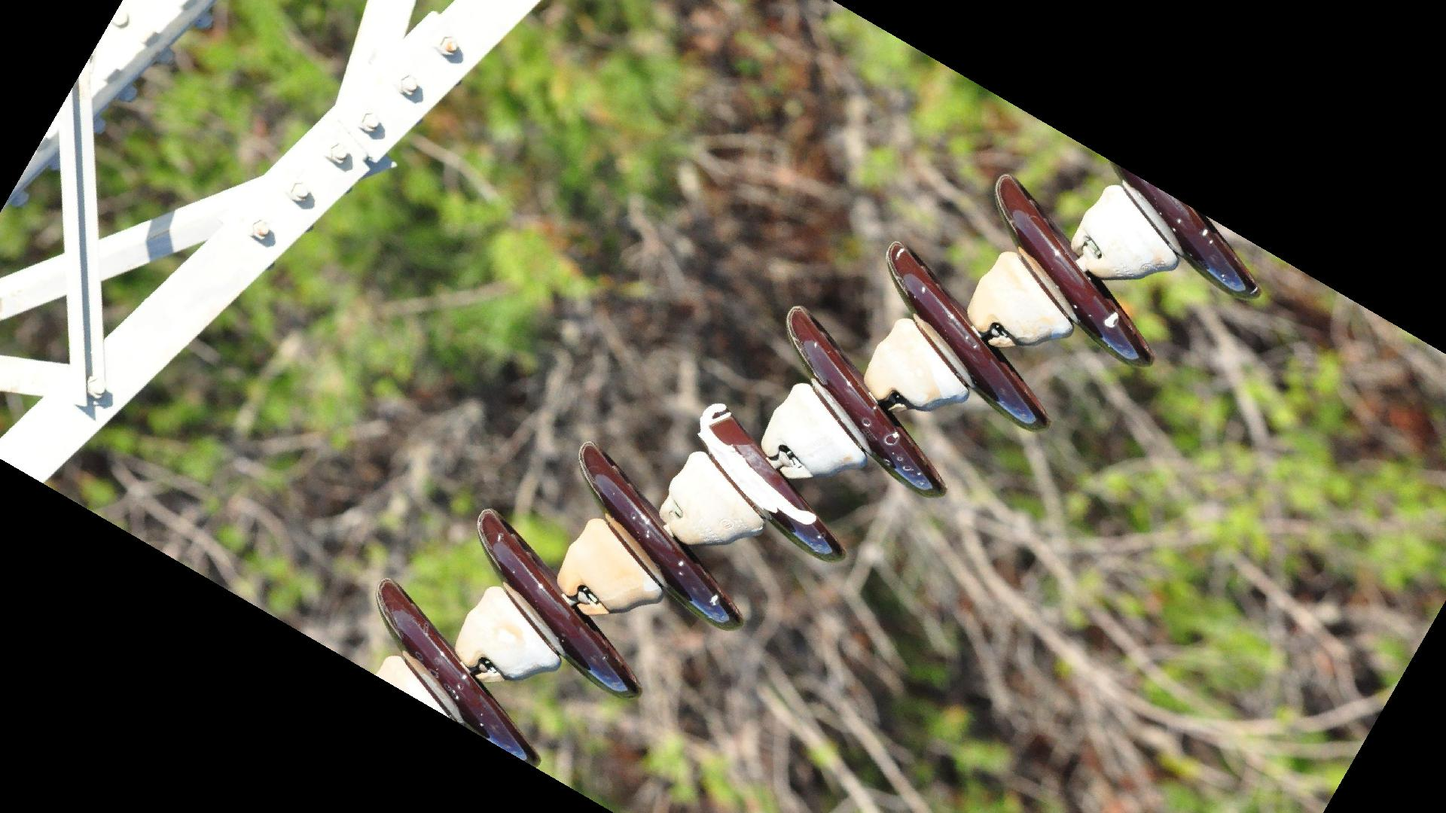insulator: (371, 151, 1267, 773)
insulator_breakage: (686, 395, 825, 536)
